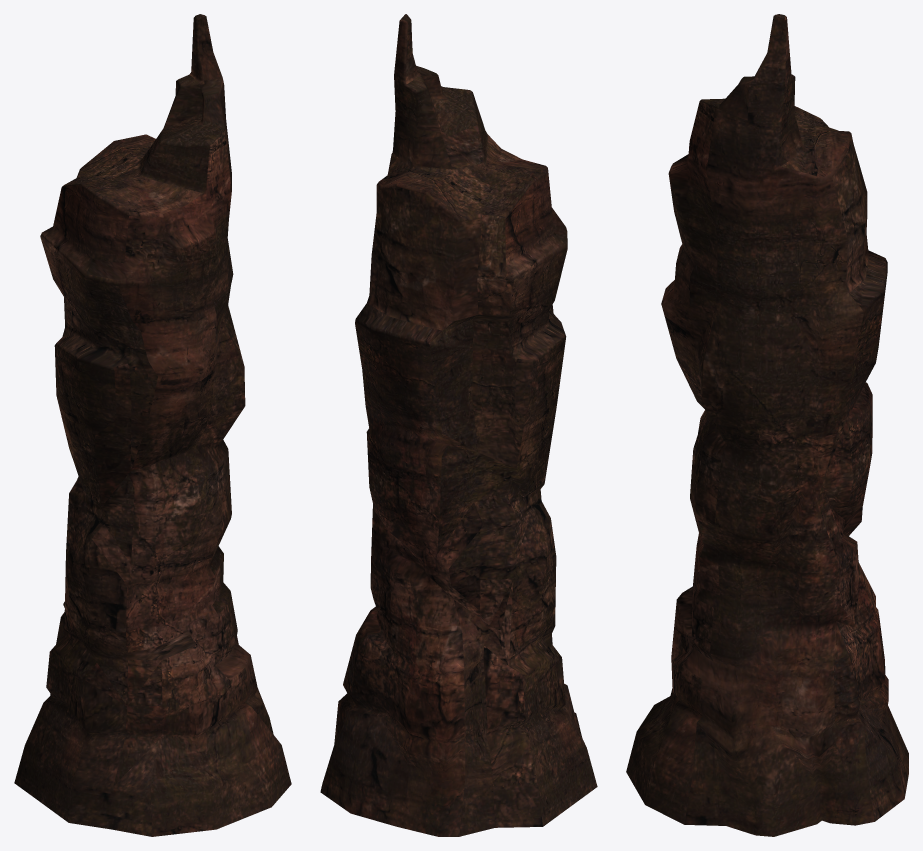
File: rock_red_pillar_large01.dae
The picture shows the model from 3 angles, left to right: view 1: azimuth 30°, elevation 25°; view 2: azimuth 150°, elevation 25°; view 3: azimuth 270°, elevation 25°; orthographic projection. The views are drawn at different scales.
Parts seen in each view (by area): view 1: Mesh; view 2: Mesh; view 3: Mesh.
Boxes of the visible parts, box(x1,y1,x2,y2) form: Mesh: box(14, 14, 291, 836); Mesh: box(320, 14, 597, 836); Mesh: box(626, 14, 908, 836).
Size of the model in its own units: 15.82 by 49.03 by 15.95.
